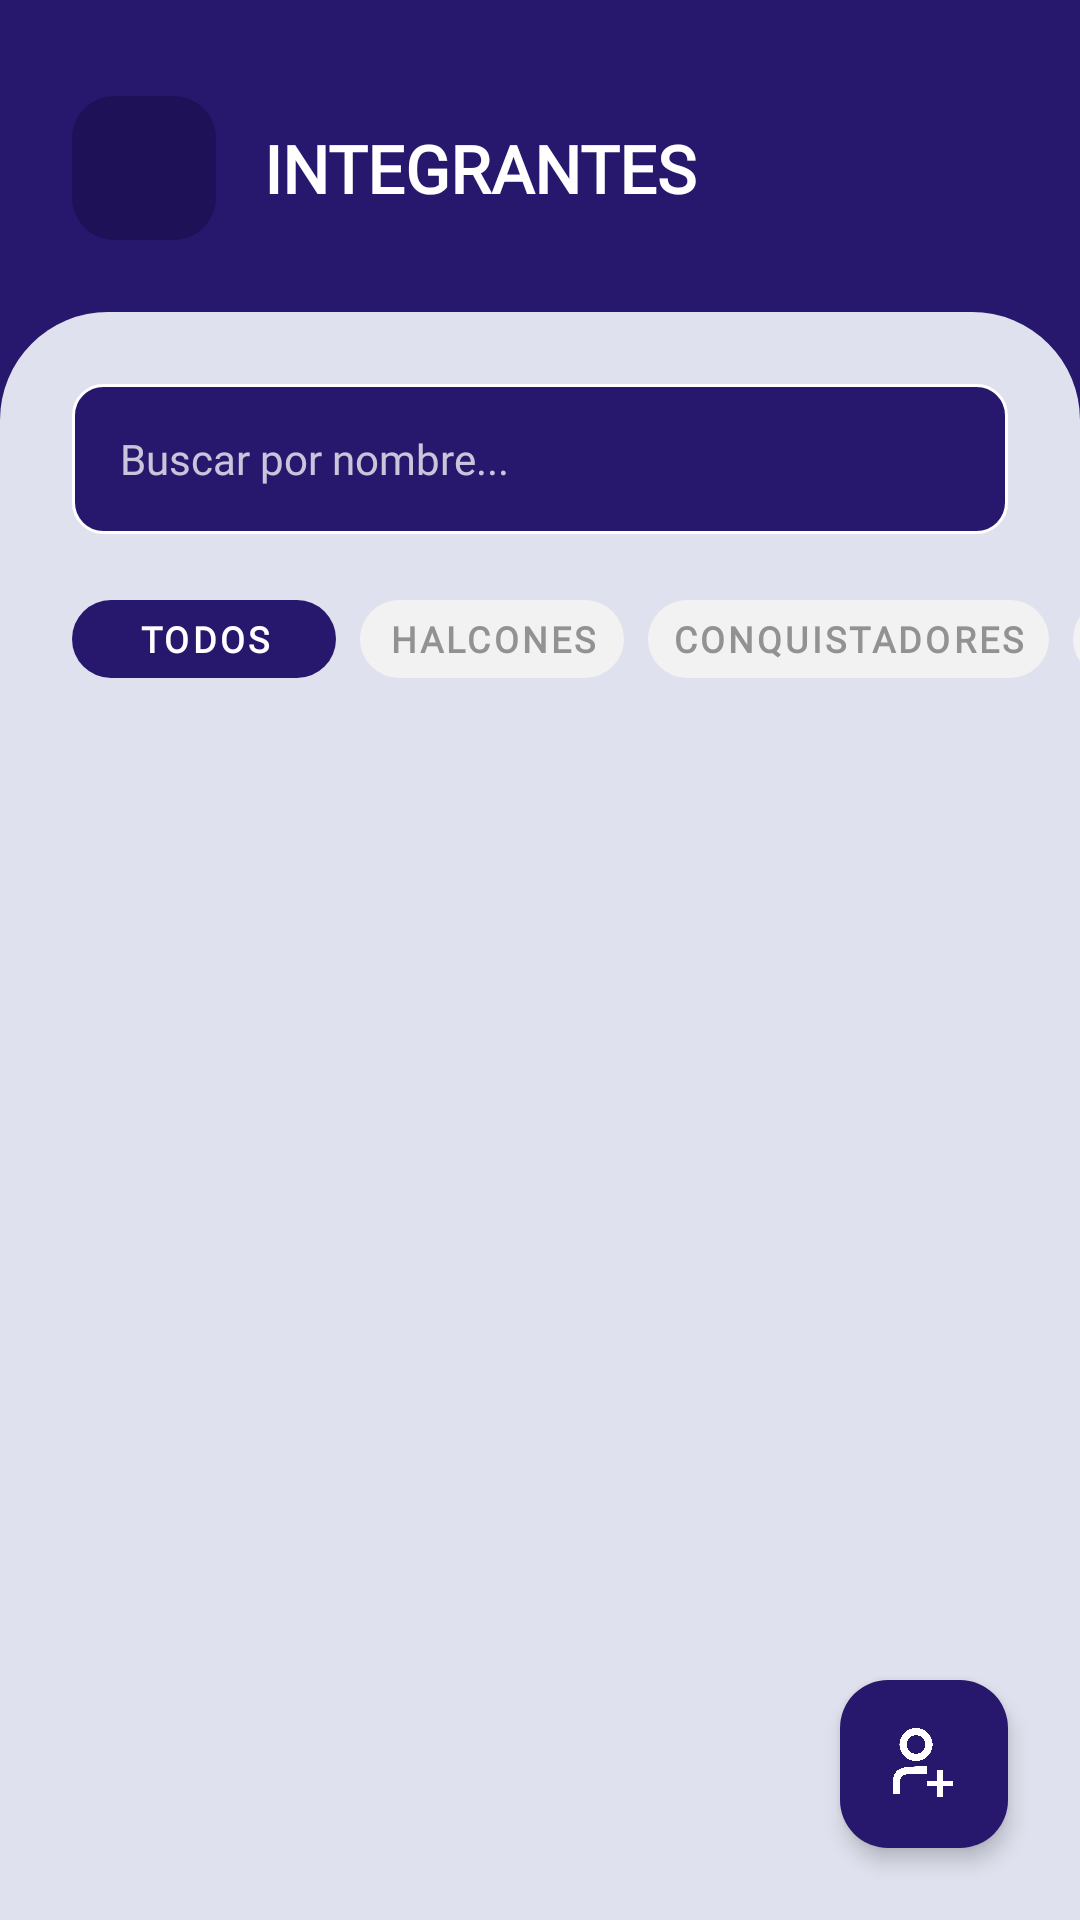

Where icons sit on this 1080*1920 app screen, as (x1, y1, x2, y2):
user add: (840, 1680, 1008, 1848)
